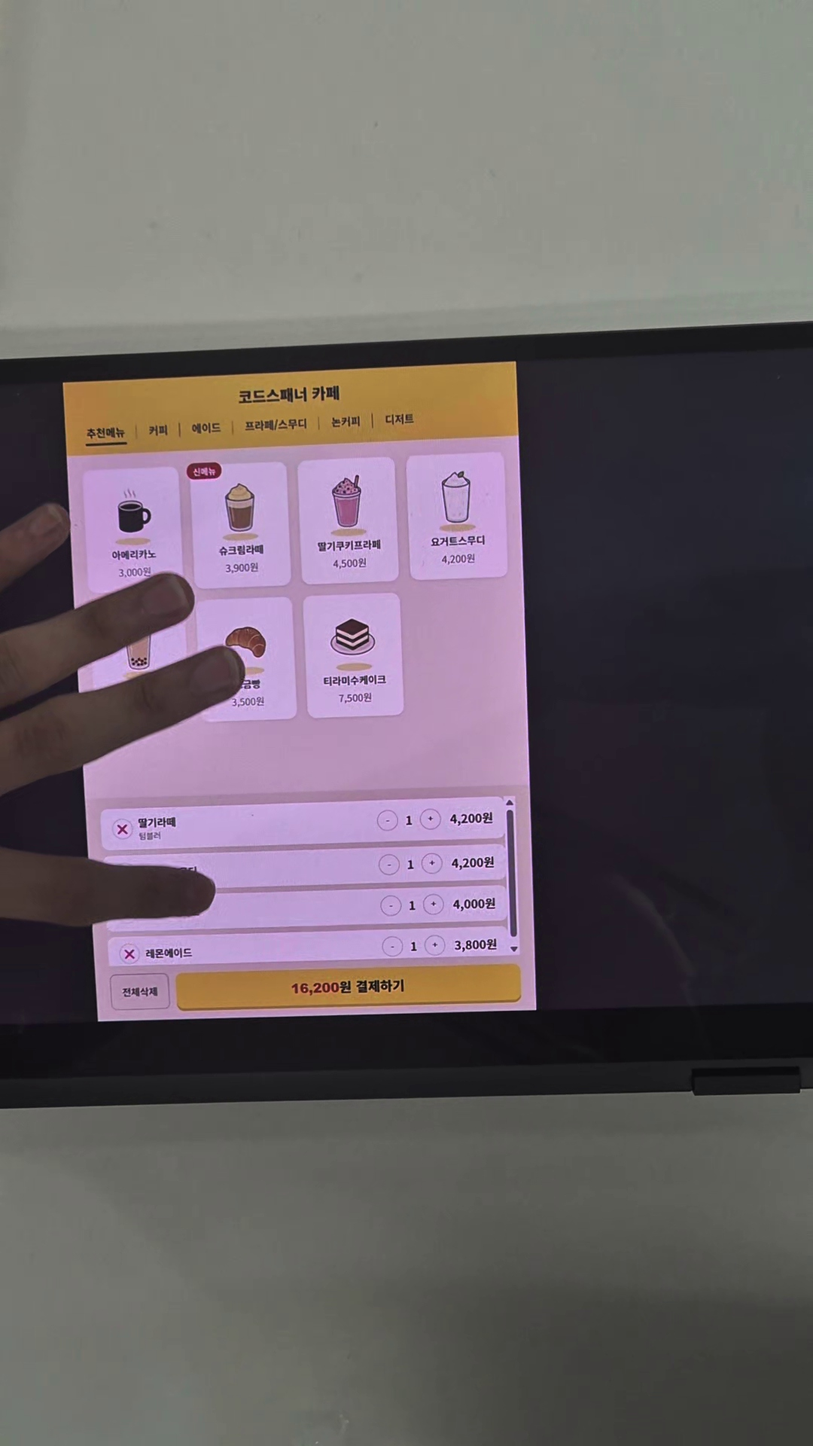action_button: (176, 964, 521, 1011), (110, 973, 170, 1010)
cart_item: (101, 796, 505, 851), (103, 844, 506, 892), (106, 884, 508, 932), (108, 926, 509, 966)
category_tab: (244, 418, 307, 432), (86, 426, 125, 439), (331, 415, 361, 428), (192, 422, 221, 435), (385, 413, 414, 425), (148, 424, 168, 437)
menu_back: (297, 457, 399, 585), (406, 452, 508, 580), (190, 462, 291, 589), (195, 597, 297, 722), (83, 467, 184, 593), (303, 592, 404, 718)
menu_name: (316, 539, 382, 554), (322, 674, 387, 687), (429, 534, 485, 548), (218, 544, 265, 557), (111, 548, 157, 561)
menu_price: (224, 561, 259, 574), (332, 557, 367, 570), (440, 553, 475, 566), (231, 695, 265, 708), (337, 692, 373, 704), (117, 566, 152, 578)
